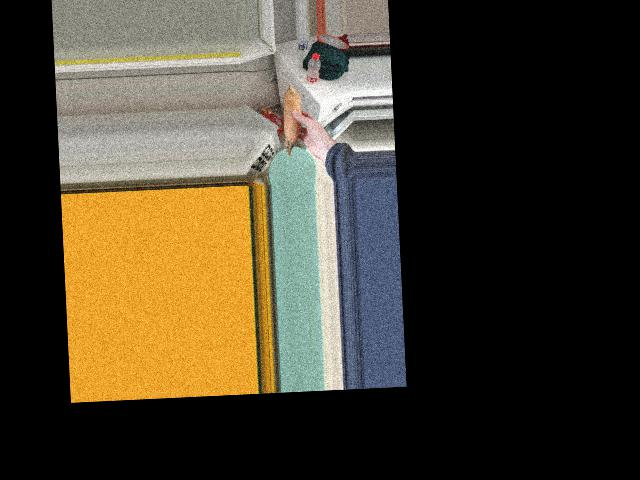sweet_potato: (281, 90, 306, 151)
